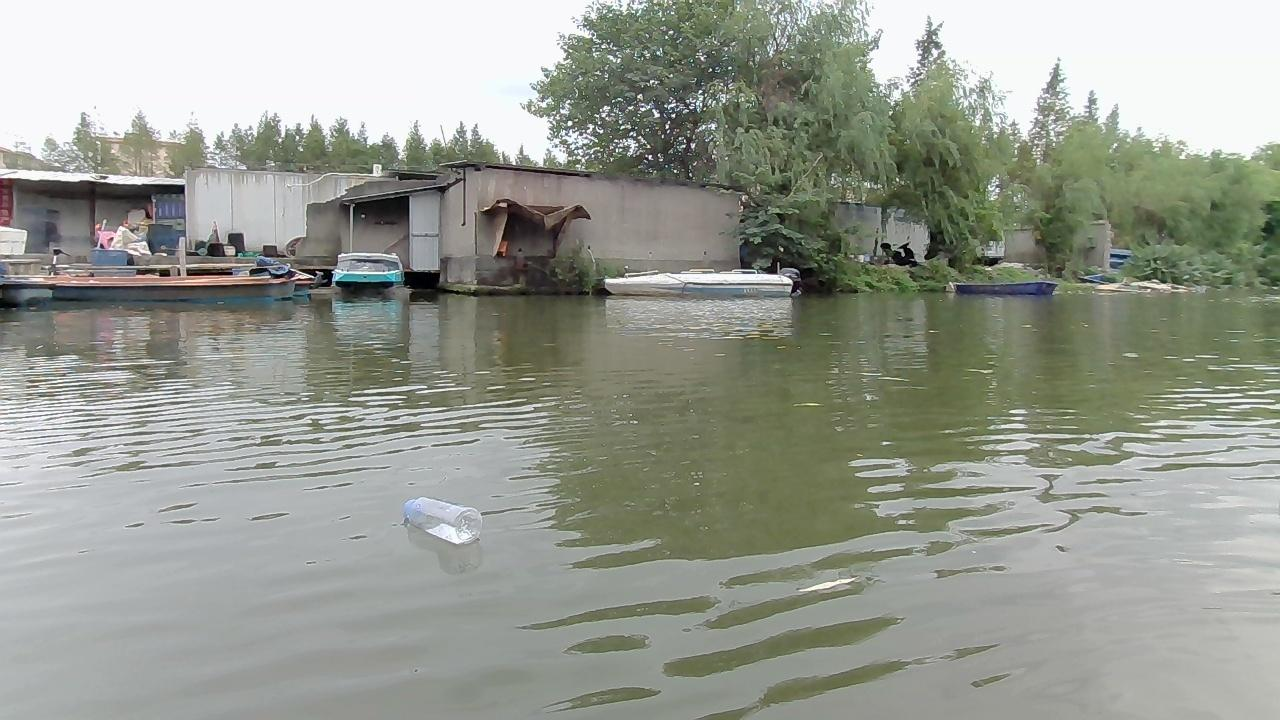bottle: (397, 492, 480, 548)
